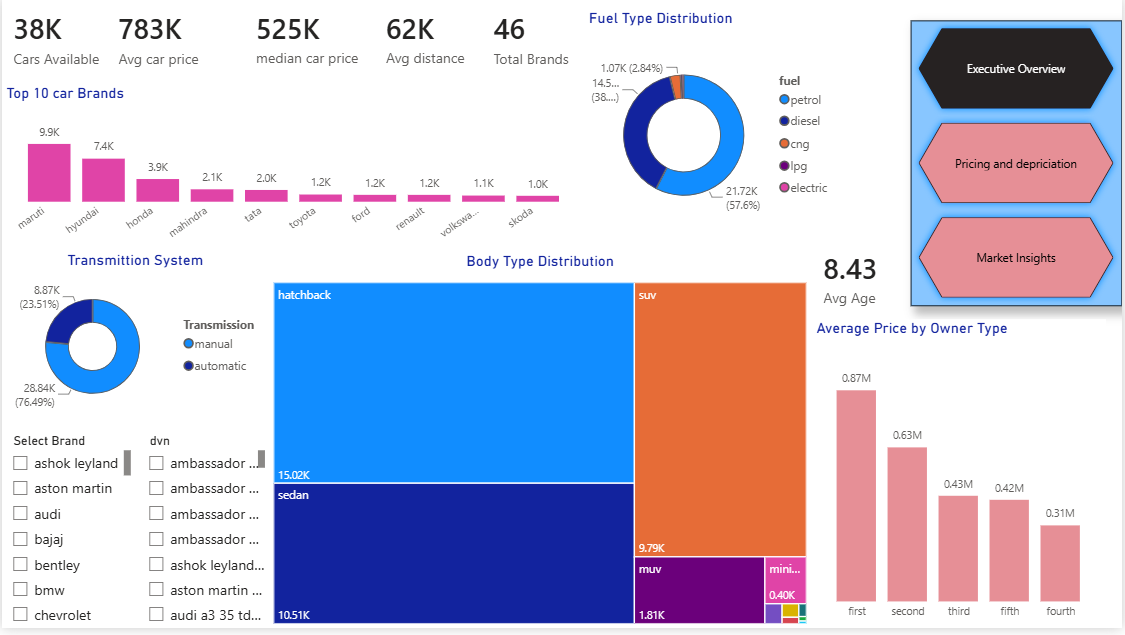

What the dashboard file says about the page in this screenshot:
{"tool":"powerbi","page":{"name":"Executive Overview","canvas":[1280,720],"ordinal":0},"visuals":[{"type":"cardVisual","title":"Cars Available","fields":{"Data":["Clean_data.No of rows"]},"box":[0,0,130,92.5],"z":0},{"type":"cardVisual","fields":{"Data":["Clean_data.Avg price listed"]},"box":[120,0,158,92],"z":1000},{"type":"cardVisual","fields":{"Data":["Clean_data.median price listed"]},"box":[277.5,0,168,91],"z":2000},{"type":"cardVisual","fields":{"Data":["Clean_data.Avg km"]},"box":[425.7,0,122.9,91.4],"z":3000},{"type":"cardVisual","fields":{"Data":["Clean_data.Total Brands"]},"box":[548.8,0,117.5,92.5],"z":4000},{"type":"cardVisual","title":"Avg vehicle Age","fields":{"Data":["Avg(Clean_data.Vehicle_Age)"]},"box":[925,271.2,113.8,96.2],"z":5000},{"type":"clusteredColumnChart","title":"Top 10 car Brands","fields":{"Y":["CountNonNull(Clean_data.oem)"],"Category":["Clean_data.oem"]},"box":[0,98.8,667.5,191.2],"z":6000},{"type":"donutChart","title":"Fuel Type Distribution","fields":{"Category":["Clean_data.fuel"],"Y":["CountNonNull(Clean_data.fuel)"]},"box":[666.2,0,291.2,271.2],"z":7000},{"type":"donutChart","title":"Transmittion System","fields":{"Category":["Clean_data.transmission"],"Y":["CountNonNull(Clean_data.transmission)"]},"box":[0,289,305,184],"z":8000},{"type":"treemap","title":"Body Type Distribution","fields":{"Group":["Clean_data.body"],"Values":["CountNonNull(Clean_data.body)"]},"box":[306.2,290,618.8,430],"z":9000},{"type":"slicer","fields":{"Values":["Clean_data.oem"]},"box":[0,492.5,152.5,227.5],"z":10000},{"type":"slicer","fields":{"Values":["Clean_data.dvn"]},"box":[156.2,492.5,150,227.5],"z":11000},{"type":"pageNavigator","box":[1038.8,25,241.2,326.2],"z":12000},{"type":"clusteredColumnChart","title":"Average Price by Owner Type","fields":{"Category":["Clean_data.owner_type"],"Y":["Avg(Clean_data.listed_price)"]},"box":[925,367.5,336.2,352.5],"z":13000}]}

Visuals, with their boxes in screenshot pixels (x1, y1, x2, y2), scaled from the page's 1280x720 canvas onto the 1125x635 screenshot:
"Cars Available" cardVisual: [x1=0, y1=0, x2=114, y2=82]
cardVisual - Clean_data.Avg price listed: [x1=105, y1=0, x2=244, y2=81]
cardVisual - Clean_data.median price listed: [x1=244, y1=0, x2=392, y2=80]
cardVisual - Clean_data.Avg km: [x1=374, y1=0, x2=482, y2=81]
cardVisual - Clean_data.Total Brands: [x1=482, y1=0, x2=586, y2=82]
"Avg vehicle Age" cardVisual: [x1=813, y1=239, x2=913, y2=324]
"Top 10 car Brands" clusteredColumnChart: [x1=0, y1=87, x2=587, y2=256]
"Fuel Type Distribution" donutChart: [x1=586, y1=0, x2=841, y2=239]
"Transmittion System" donutChart: [x1=0, y1=255, x2=268, y2=417]
"Body Type Distribution" treemap: [x1=269, y1=256, x2=813, y2=634]
slicer - Clean_data.oem: [x1=0, y1=434, x2=134, y2=634]
slicer - Clean_data.dvn: [x1=137, y1=434, x2=269, y2=634]
pageNavigator: [x1=913, y1=22, x2=1124, y2=310]
"Average Price by Owner Type" clusteredColumnChart: [x1=813, y1=324, x2=1108, y2=634]
